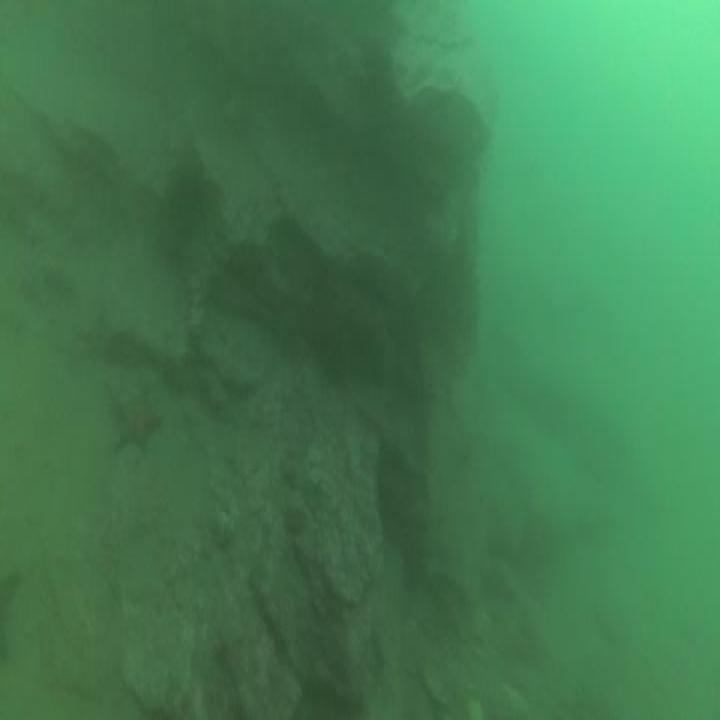echinus: (159, 154, 209, 244)
starfish: (108, 377, 166, 462)
